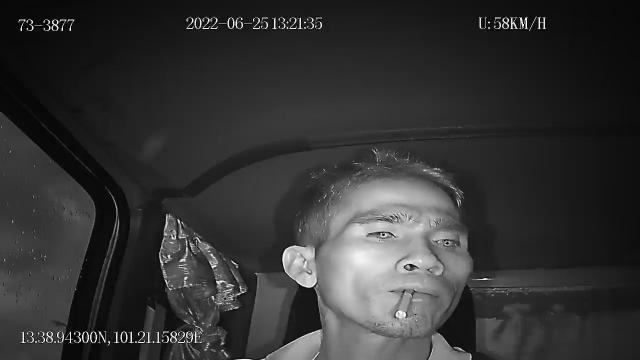SafeDriving: (359, 222, 405, 246), (425, 228, 467, 253)
Smoking: (394, 286, 414, 322)
